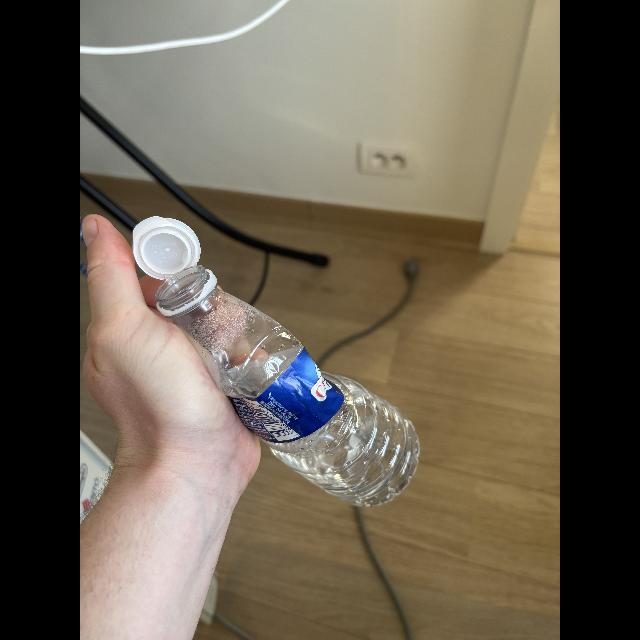Plastic: (150, 268, 422, 507), (127, 208, 203, 278)
